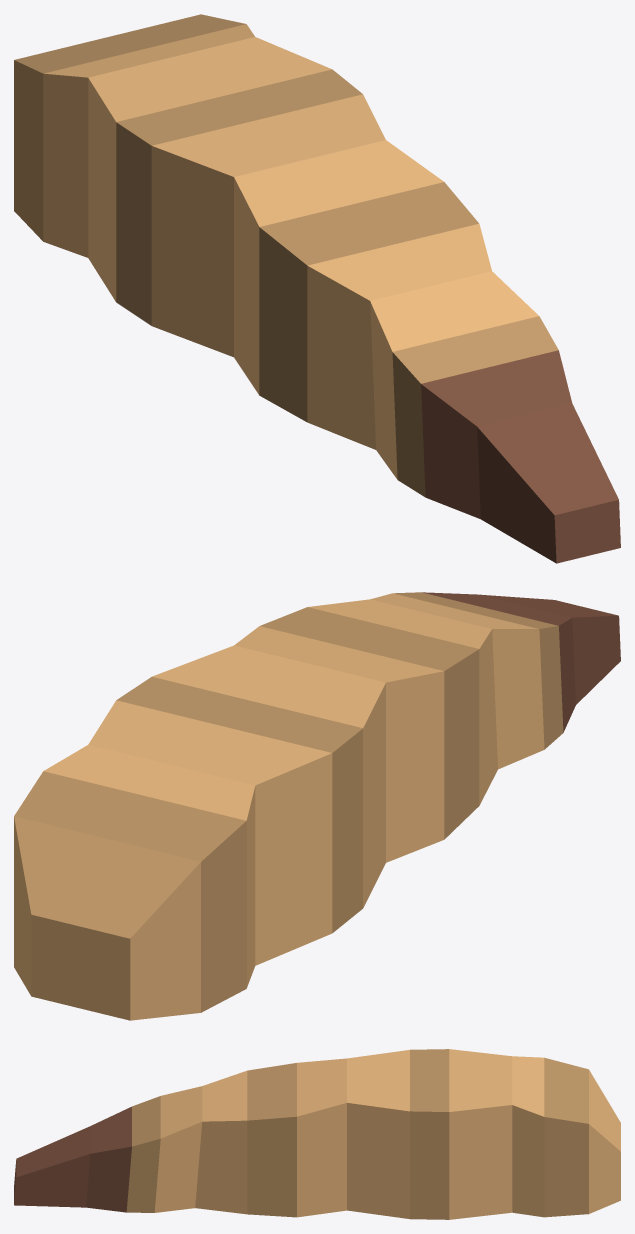
File: maggot.fbx
3 renders of one model, top to bottom at view 1: azimuth 30°, elevation 25°; view 2: azimuth 150°, elevation 25°; view 3: azimuth 270°, elevation 25°, orthographic. The views are drawn at different scales.
Visible parts, largest first — view 1: Cube; view 2: Cube; view 3: Cube.
Boxes of the visible parts, x1=… form: Cube: x1=14, y1=14, x2=620, y2=563; Cube: x1=14, y1=592, x2=620, y2=1020; Cube: x1=14, y1=1049, x2=620, y2=1219.
Bounding box in the file's own units: 1.91 × 1.63 × 7.78.
